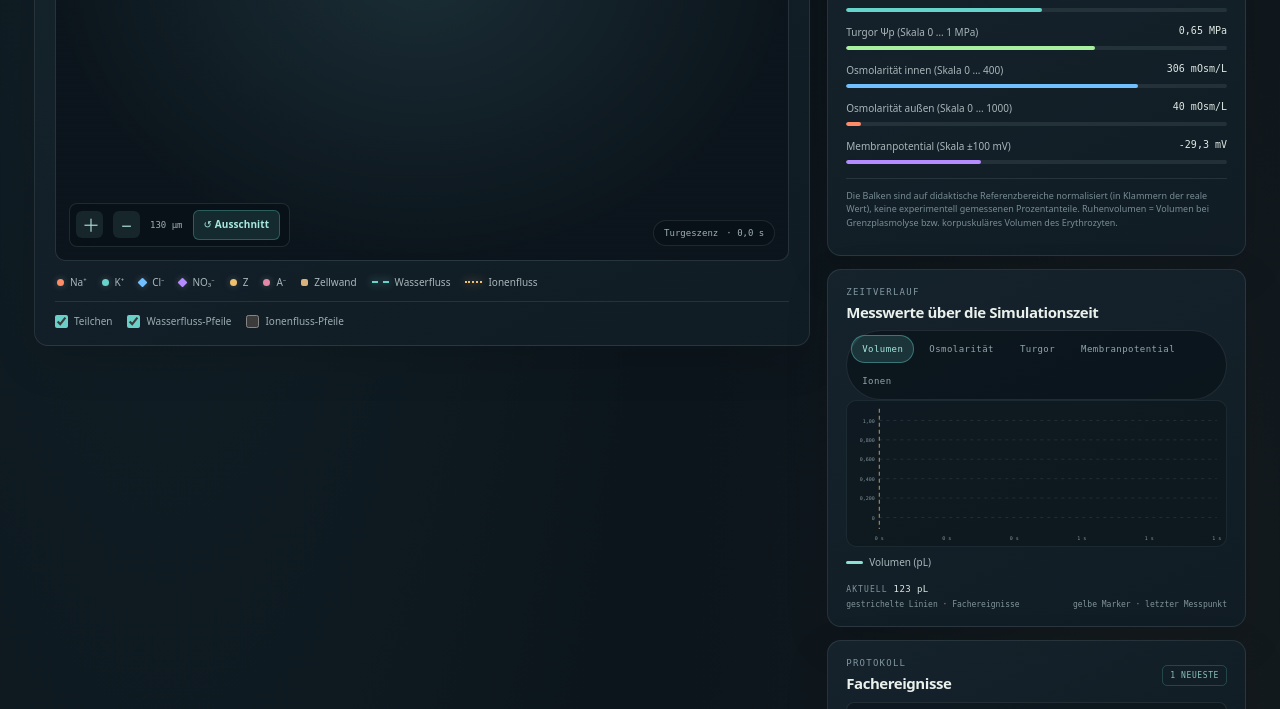
Test: Benutzeroberfläche (Smoke-Test im jsdom) › Diagrammserie lässt sich umschalten
This screenshot has width=1280, height=709.
(page scrolled)
Click the radio button labelled "Turgor".
click(1038, 349)  # box left=1009, top=335, right=1066, bottom=363
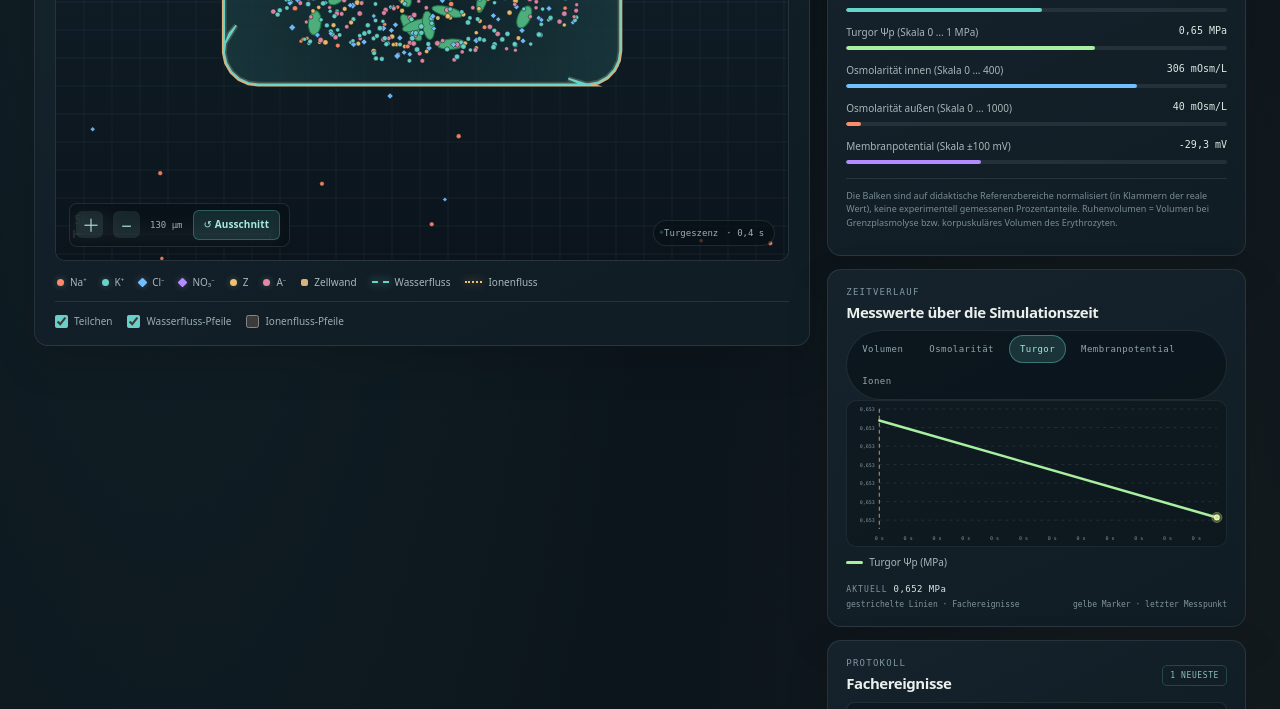
expect the element with class "chart__current" shows "MPa": met, box left=894, top=584, right=946, bottom=594
